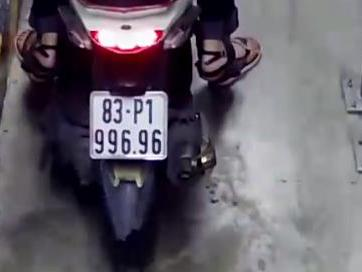num_plate: (87, 90, 170, 162)
